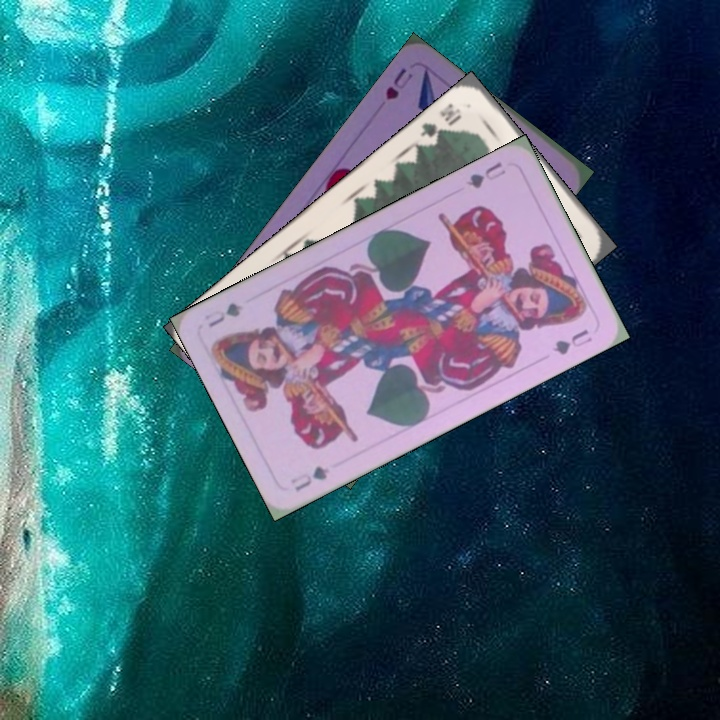G10: (415, 99, 465, 143)
GU: (462, 157, 509, 192), (286, 462, 332, 494)
HU: (381, 63, 416, 103)
